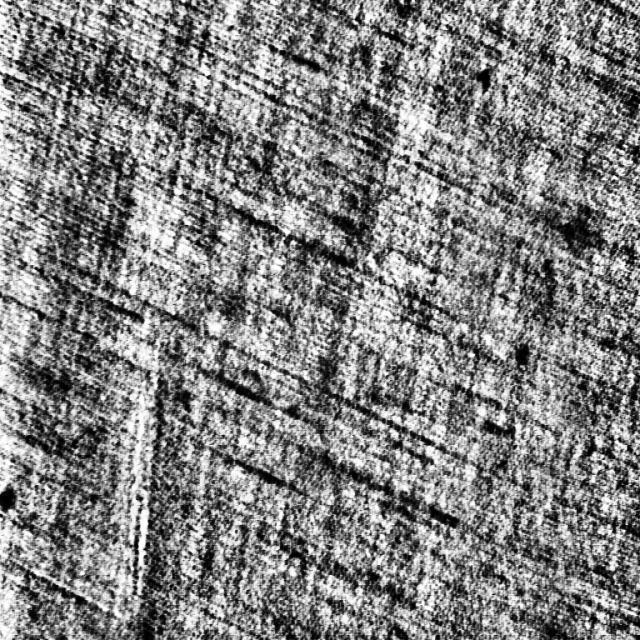gray stitch: (122, 300, 161, 595)
